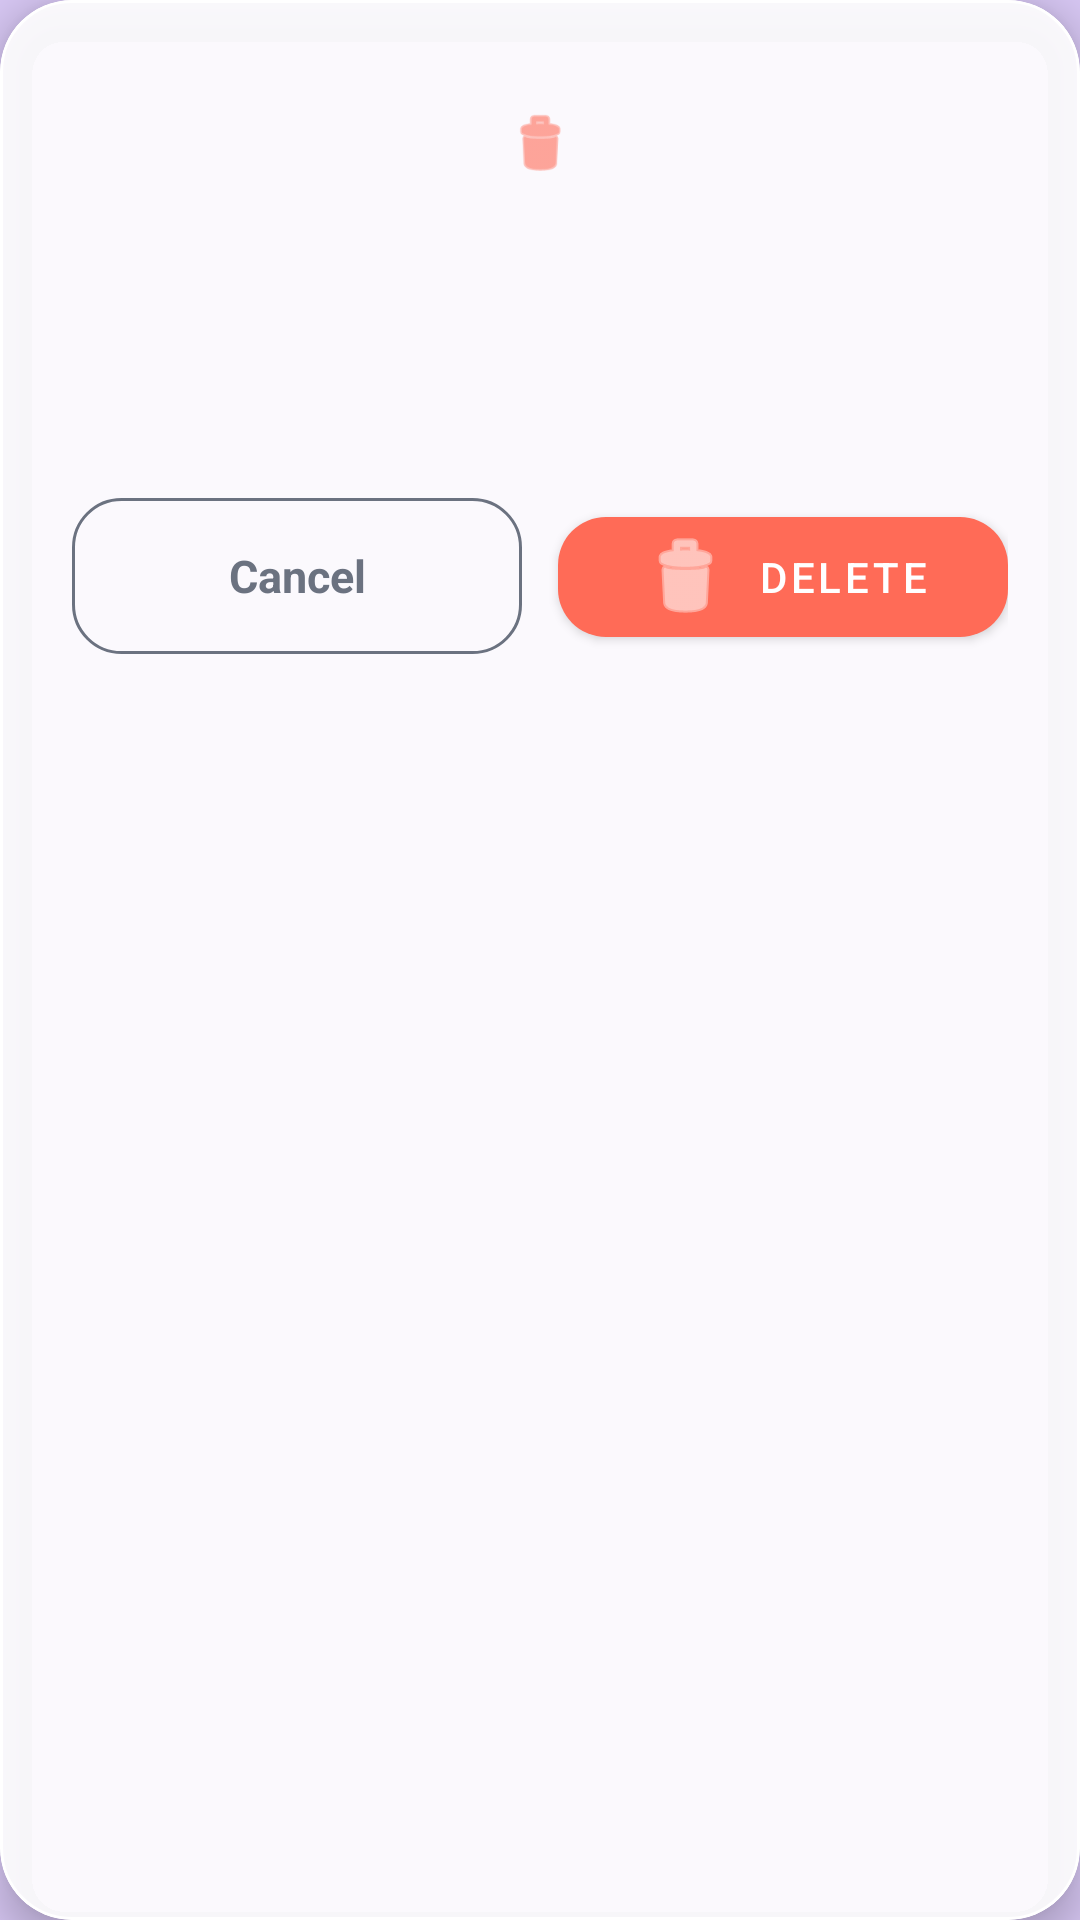

Locate icon controls on the screen. Image size 1080w x 1920h, boxes as {"x1": x1, "y1": y1, "x2": x2, "y2": y2}.
Delete: {"x1": 520, "y1": 115, "x2": 561, "y2": 171}
